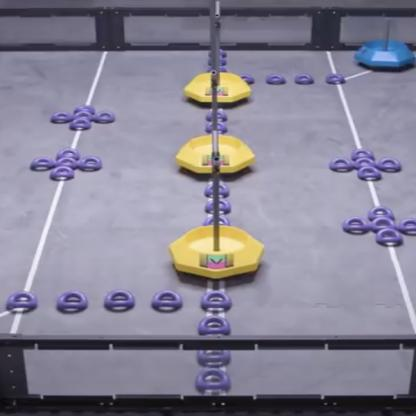ring: (192, 367, 230, 389), (55, 290, 87, 314), (150, 289, 182, 310), (198, 314, 230, 335), (103, 289, 134, 310), (5, 291, 37, 311), (200, 291, 232, 311), (195, 348, 231, 363), (374, 228, 403, 244), (328, 156, 352, 172), (342, 216, 369, 230), (370, 217, 397, 231), (49, 165, 74, 179), (29, 156, 54, 170), (368, 205, 393, 219), (77, 155, 100, 170), (204, 182, 228, 196), (205, 199, 230, 212), (377, 156, 400, 170), (357, 166, 381, 179), (56, 147, 78, 160), (93, 110, 115, 123), (68, 117, 91, 129), (53, 157, 78, 168), (350, 148, 373, 159), (203, 216, 231, 225), (353, 157, 374, 169), (50, 110, 70, 122), (399, 218, 415, 232), (206, 121, 228, 131), (265, 73, 285, 84), (294, 73, 314, 84), (72, 110, 92, 120), (206, 109, 226, 119), (325, 73, 345, 83), (207, 48, 228, 56), (74, 105, 94, 113), (237, 73, 253, 83), (207, 65, 227, 72), (206, 57, 226, 64)
